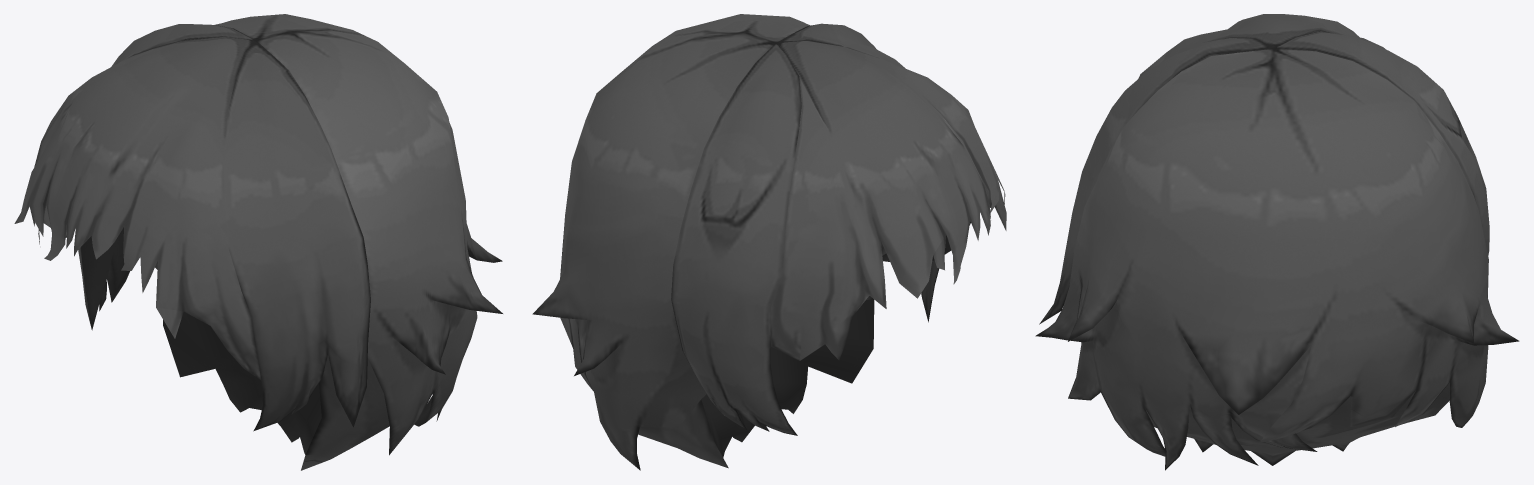
File: hair_short_darkgrey.gltf
3 views of the same model, side by side, from view 1: azimuth 30°, elevation 25°; view 2: azimuth 150°, elevation 25°; view 3: azimuth 270°, elevation 25° (orthographic). The views are drawn at different scales.
Visible parts, largest first — view 1: Shorterw; view 2: Shorterw; view 3: Shorterw.
Boxes of the visible parts, box(x1,y1,x2,y2) form: Shorterw: box(14, 14, 502, 470); Shorterw: box(532, 14, 1006, 470); Shorterw: box(1035, 14, 1519, 470).
Bounding box in the file's own units: 0.7547 × 0.7034 × 0.7602.
Materials: 1 (1 with a texture image).
